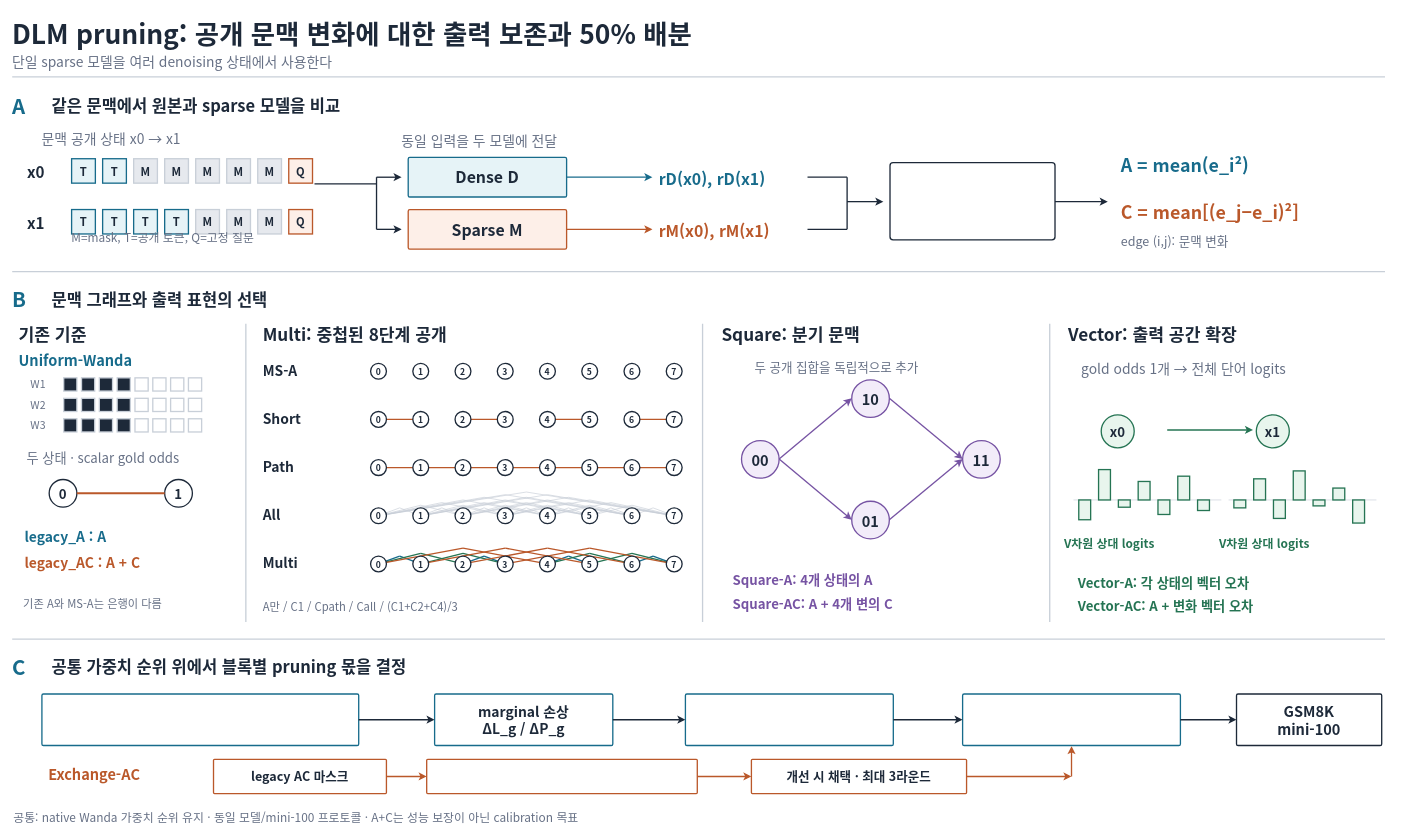
Image size: 1410x837. Some labels were removed from this diagram. Here are the shapes that lost their labels. From the top down, the centre of each, then its label:
[972,201]: e_i = rM(x_i) − rD(x_i)
[200,719]: 블록 g: 48% / 52% 두 마스크
[789,719]: 블록 순위 → 행별 quota
[1071,719]: 정확한 전역 50% 마스크
[562,776]: 블록 몫 교환 · 실제 A+C 측정
